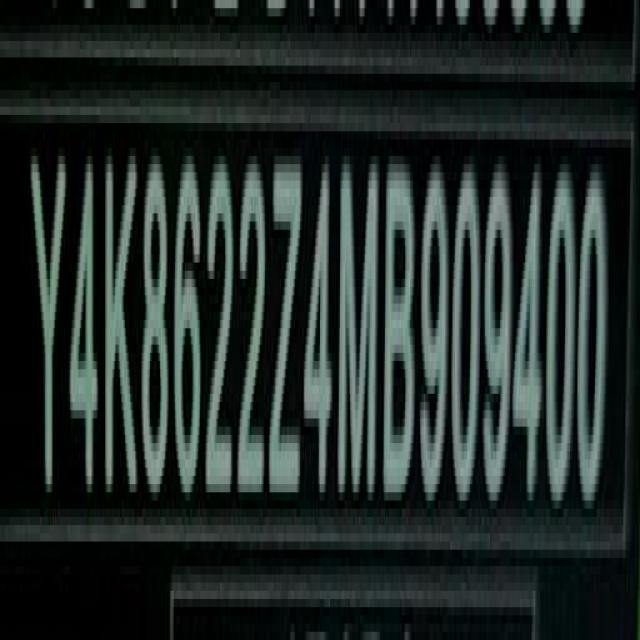0: (577, 136, 612, 522), (544, 138, 575, 521), (453, 131, 483, 517)
2: (205, 139, 237, 512), (238, 131, 269, 514)
4: (69, 130, 102, 510), (512, 136, 544, 520)
6: (172, 133, 204, 516)
8: (142, 134, 173, 510)
9: (418, 138, 451, 518), (482, 133, 512, 518)
A: (302, 131, 336, 511)
B: (386, 128, 421, 517)
K: (103, 149, 139, 498)
M: (341, 132, 384, 512)
Y: (31, 152, 68, 501)
Z: (270, 129, 302, 524)
